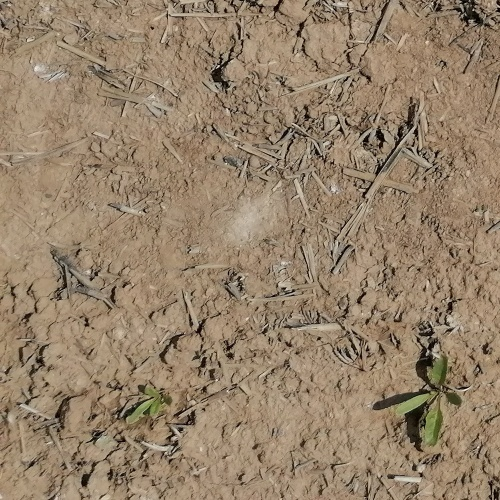beet: (394, 354, 460, 444), (126, 384, 174, 425)
